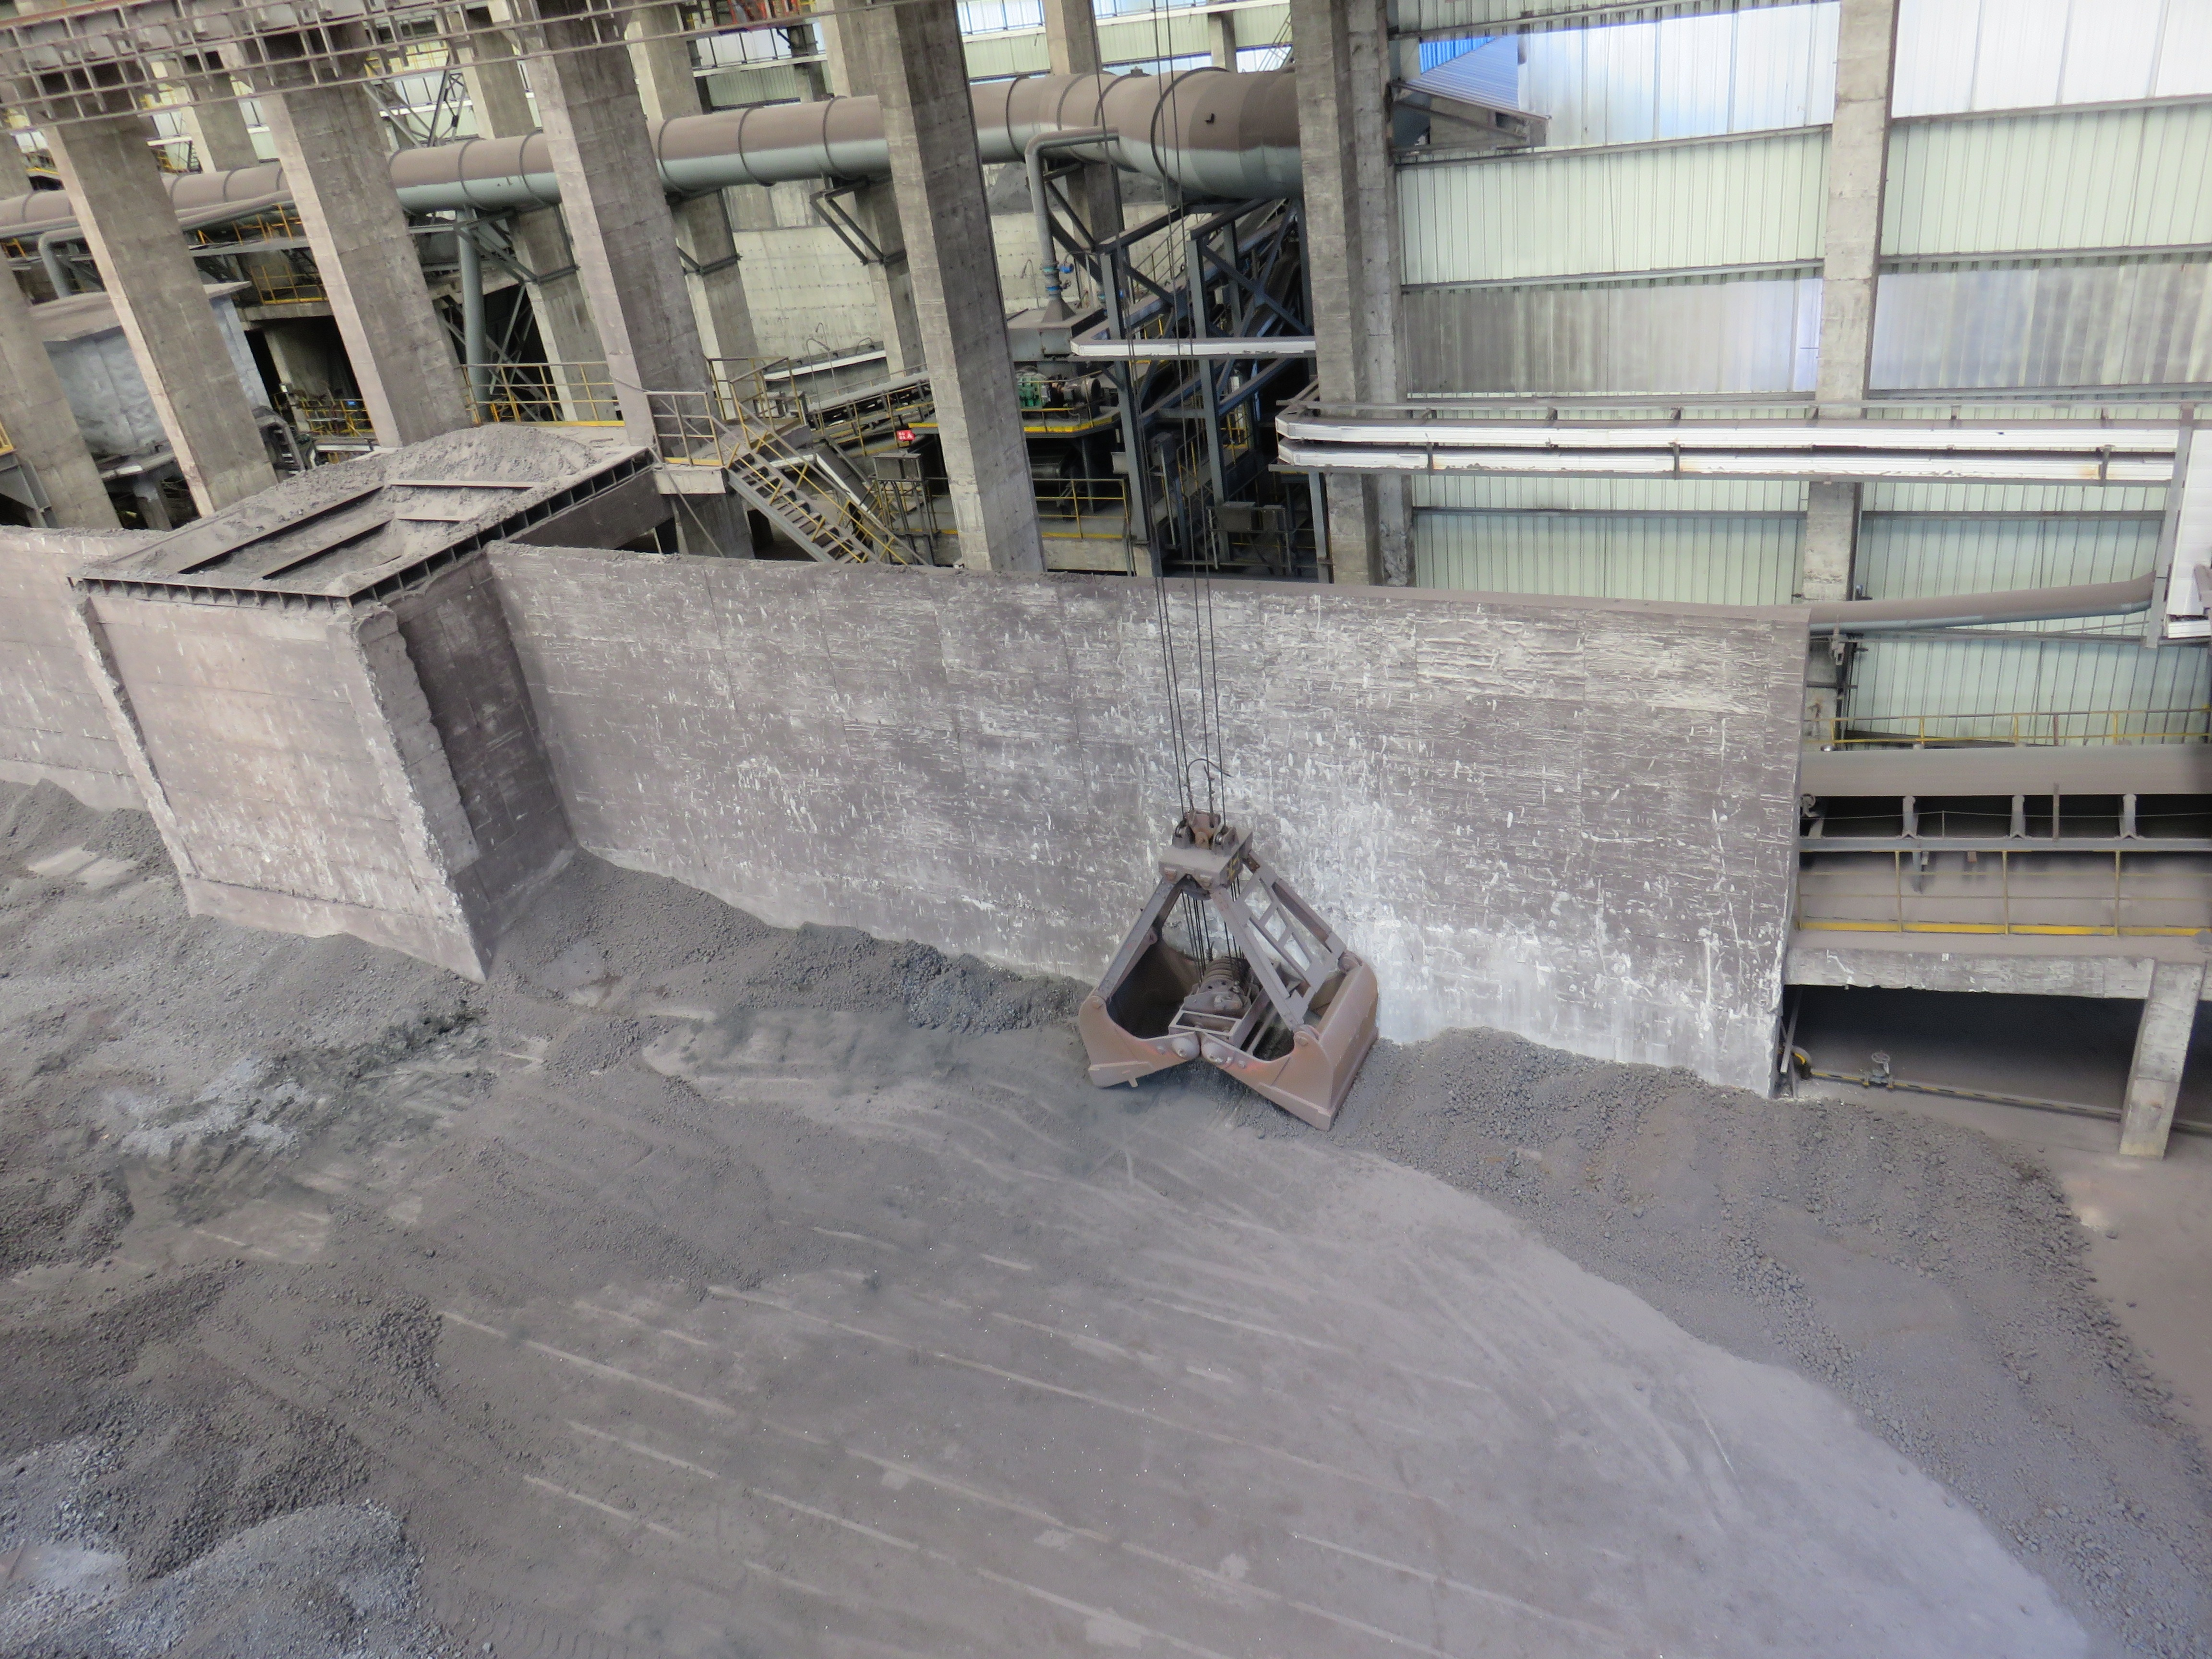grab: (1075, 803, 1392, 1133)
